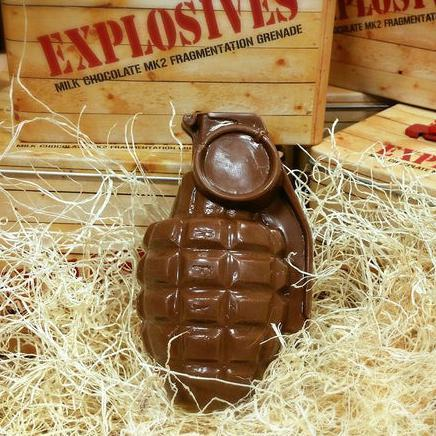Grenade: (134, 112, 312, 413)
